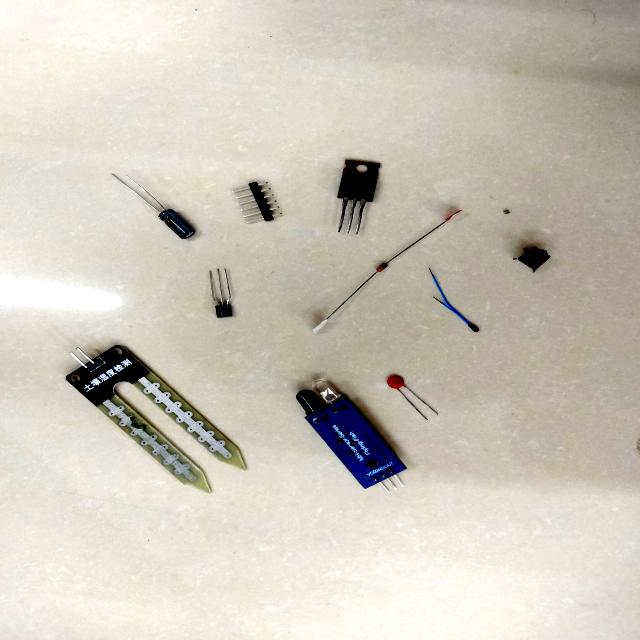capacitor: (159, 209, 195, 239), (387, 375, 404, 389)
